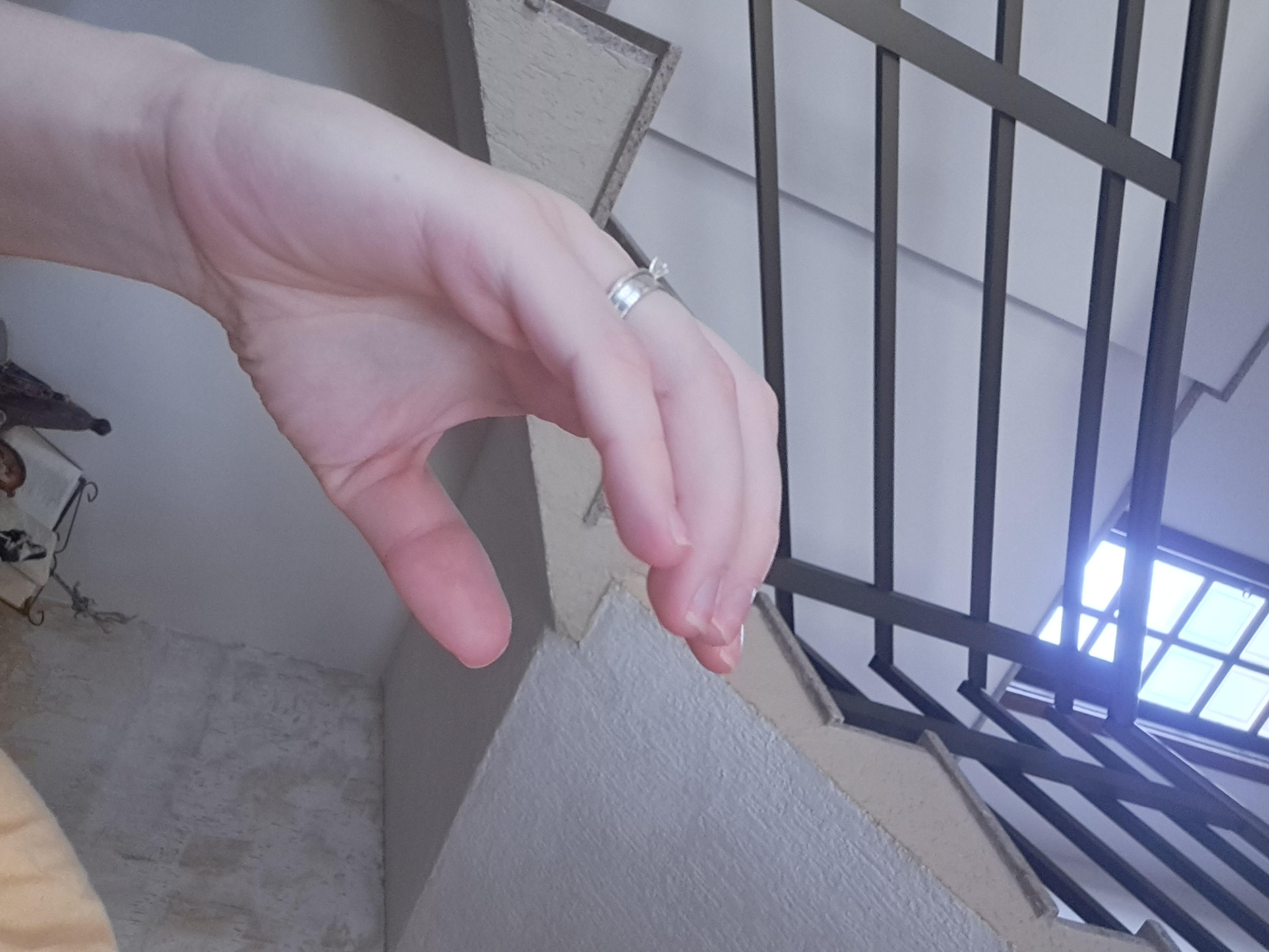C: (119, 356, 923, 793)
